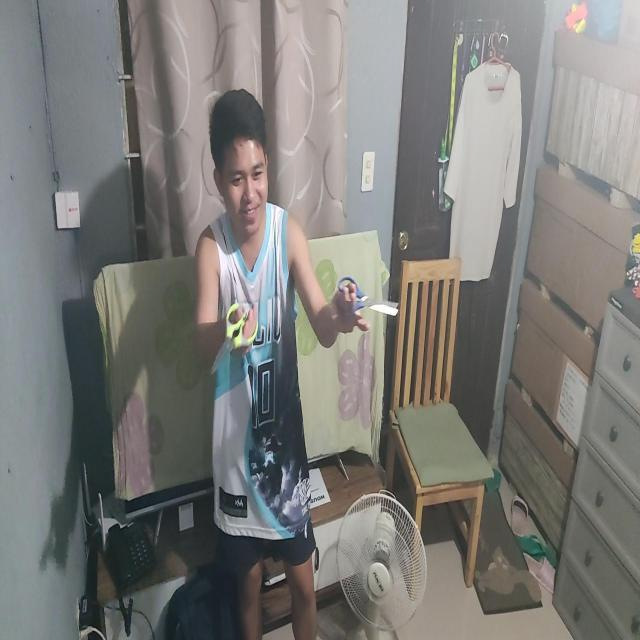scissor: (210, 302, 259, 375), (338, 278, 398, 326)
